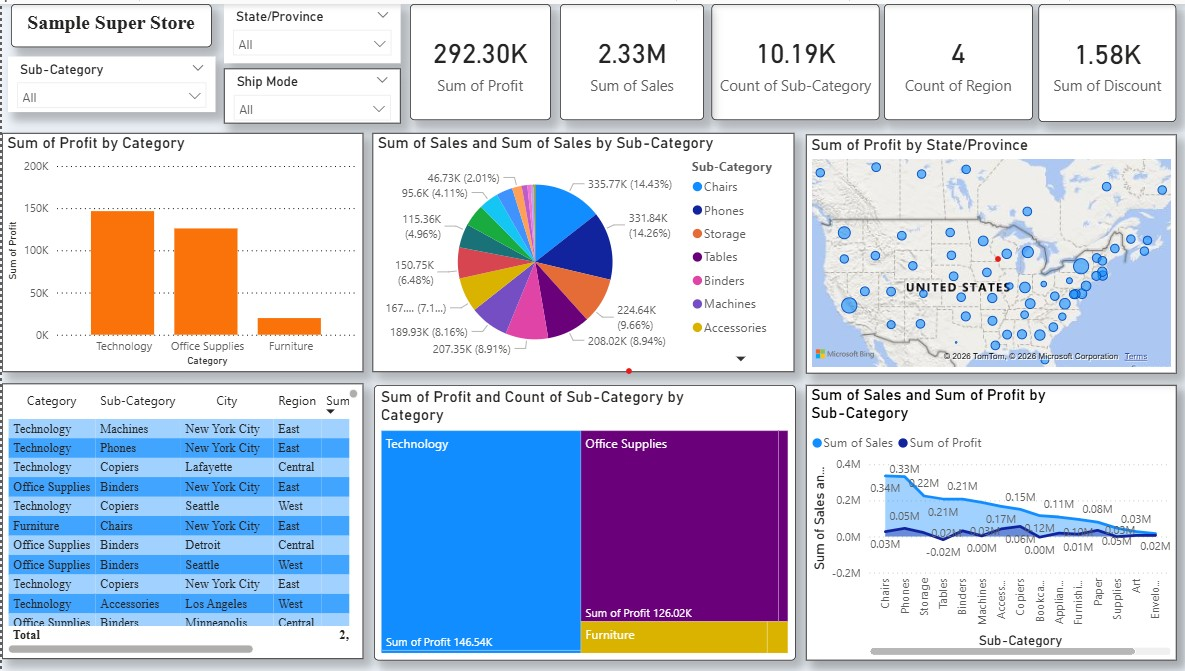

The dashboard page shown, as its layout file describes it:
{"tool":"powerbi","page":{"name":"Page 1","canvas":[1280,720],"ordinal":0},"visuals":[{"type":"textbox","box":[9.7,0,216.4,46.4],"z":0},{"type":"slicer","fields":{"Values":["Sheet1.Sub-Category"]},"box":[5.8,56,224.1,59.9],"z":1000},{"type":"slicer","fields":{"Values":["Sheet1.State/Province"]},"box":[240.2,0,190.6,64.2],"z":2000},{"type":"slicer","fields":{"Values":["Sheet1.Ship Mode"]},"box":[240.2,69.1,190.6,59.3],"z":3000},{"type":"card","fields":{"Values":["Sum(Sheet1.Profit)"]},"box":[440.5,0,151.7,125.6],"z":4000},{"type":"card","fields":{"Values":["CountNonNull(Sheet1.Sub-Category)"]},"box":[765.1,0,181.6,125.6],"z":5000},{"type":"card","fields":{"Values":["Sum(Sheet1.Sales)"]},"box":[601.8,0,155.5,125.6],"z":6000},{"type":"card","fields":{"Values":["Count(Sheet1.Region)"]},"box":[952.5,0,160.4,125.6],"z":7000},{"type":"card","fields":{"Values":["Sum(Sheet1.Discount)"]},"box":[1119.6,0,148.8,127.5],"z":8000},{"type":"columnChart","fields":{"Category":["Sheet1.Category"],"Y":["Sum(Sheet1.Profit)"]},"box":[0,140.1,390,257.8],"z":9000},{"type":"pieChart","fields":{"Y":["Sum(Sheet1.Sales)","Sum(Sheet1.Sales)"],"Category":["Sheet1.Sub-Category"]},"box":[400.7,140.1,455.2,257.8],"z":10000},{"type":"tableEx","fields":{"Values":["Sheet1.Category","Sheet1.Sub-Category","Sheet1.City","Sheet1.Region","Sum(Sheet1.Profit)","Sum(Sheet1.Sales)"]},"box":[0,410.5,390,297.6],"z":11000},{"type":"treemap","fields":{"Group":["Sheet1.Category"],"Values":["Sum(Sheet1.Profit)","CountNonNull(Sheet1.Sub-Category)"]},"box":[400.9,410.6,455,297.5],"z":12000},{"type":"lineChart","fields":{"Category":["Sheet1.Sub-Category"],"Y":["Sum(Sheet1.Sales)","Sum(Sheet1.Profit)"]},"box":[868.5,410.6,399.9,297.5],"z":13000},{"type":"map","fields":{"Size":["Sum(Sheet1.Profit)"],"Category":["Sheet1.State/Province"]},"box":[868.5,140.1,399.9,257.9],"z":14000}]}

Visuals, with their boxes in screenshot pixels (x1, y1, x2, y2), scaled from the page's 1280x720 canvas onto the 1185x671 screenshot:
textbox: BBox(9, 0, 209, 43)
slicer - Sheet1.Sub-Category: BBox(5, 52, 213, 108)
slicer - Sheet1.State/Province: BBox(222, 0, 399, 60)
slicer - Sheet1.Ship Mode: BBox(222, 64, 399, 120)
card - Sum(Sheet1.Profit): BBox(408, 0, 548, 117)
card - CountNonNull(Sheet1.Sub-Category): BBox(708, 0, 876, 117)
card - Sum(Sheet1.Sales): BBox(557, 0, 701, 117)
card - Count(Sheet1.Region): BBox(882, 0, 1030, 117)
card - Sum(Sheet1.Discount): BBox(1037, 0, 1174, 119)
columnChart - Sheet1.Category x Sum(Sheet1.Profit): BBox(0, 131, 361, 371)
pieChart - Sum(Sheet1.Sales) x Sum(Sheet1.Sales): BBox(371, 131, 792, 371)
tableEx - Sheet1.Category x Sheet1.Sub-Category: BBox(0, 383, 361, 660)
treemap - Sheet1.Category x Sum(Sheet1.Profit): BBox(371, 383, 792, 660)
lineChart - Sheet1.Sub-Category x Sum(Sheet1.Sales): BBox(804, 383, 1174, 660)
map - Sum(Sheet1.Profit) x Sheet1.State/Province: BBox(804, 131, 1174, 371)
